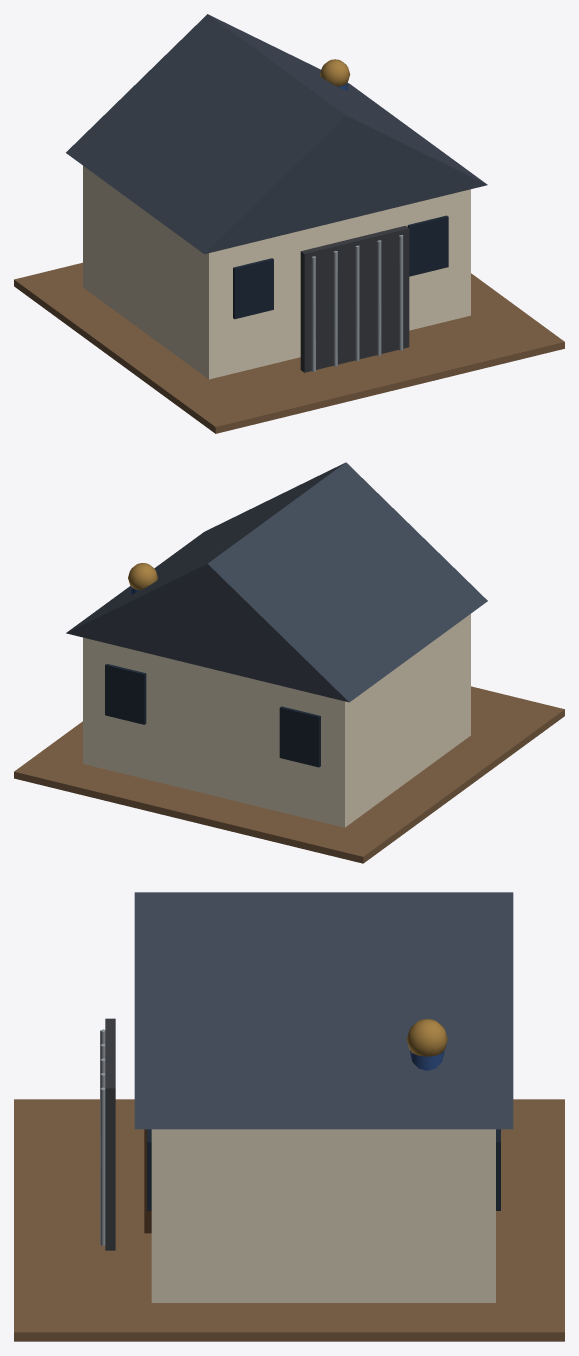
The model's file is bld_special_police_a03.glb.
3 renders of one model, top to bottom at view 1: azimuth 30°, elevation 25°; view 2: azimuth 150°, elevation 25°; view 3: azimuth 270°, elevation 25°, orthographic. The views are drawn at different scales.
Visible parts, largest first — view 1: body; view 2: body; view 3: body.
Part boxes in pixels (x1,y1,x2,y2): body: [14, 14, 564, 433]; body: [14, 462, 564, 863]; body: [14, 892, 564, 1341].
Size of what is drawn, in the model's own units: 8 by 5.33 by 8.
